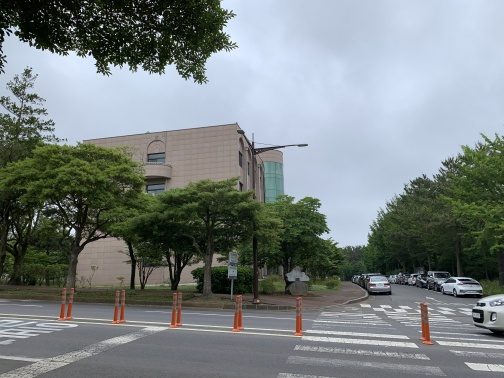Natural Science2: (76, 115, 296, 211)
